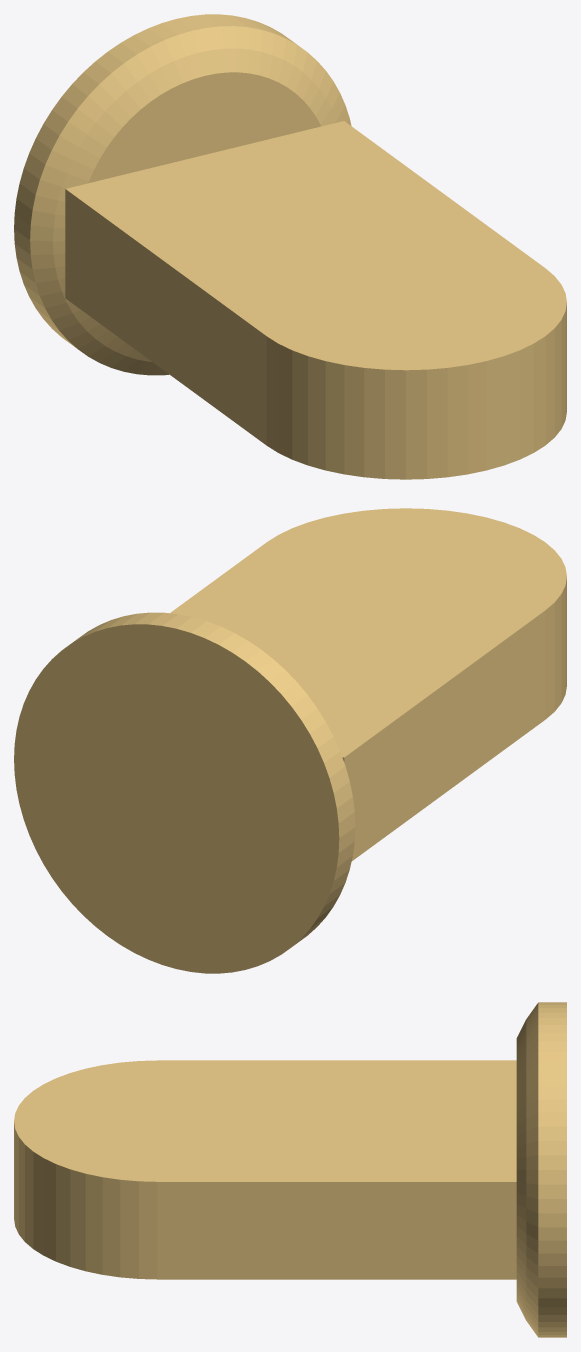
File: tile_surya.glb
3 views of the same model, one above another, from view 1: azimuth 30°, elevation 25°; view 2: azimuth 150°, elevation 25°; view 3: azimuth 270°, elevation 25° (orthographic). The views are drawn at different scales.
Visible parts, largest first — view 1: geometry_0; view 2: geometry_0; view 3: geometry_0.
Part boxes in pixels (left/top/right/bottom): geometry_0: left=14, top=14, right=566, bottom=479; geometry_0: left=14, top=508, right=566, bottom=973; geometry_0: left=14, top=1002, right=566, bottom=1337.
Bounding box in the file's own units: 0.028 × 0.028 × 0.0462.
